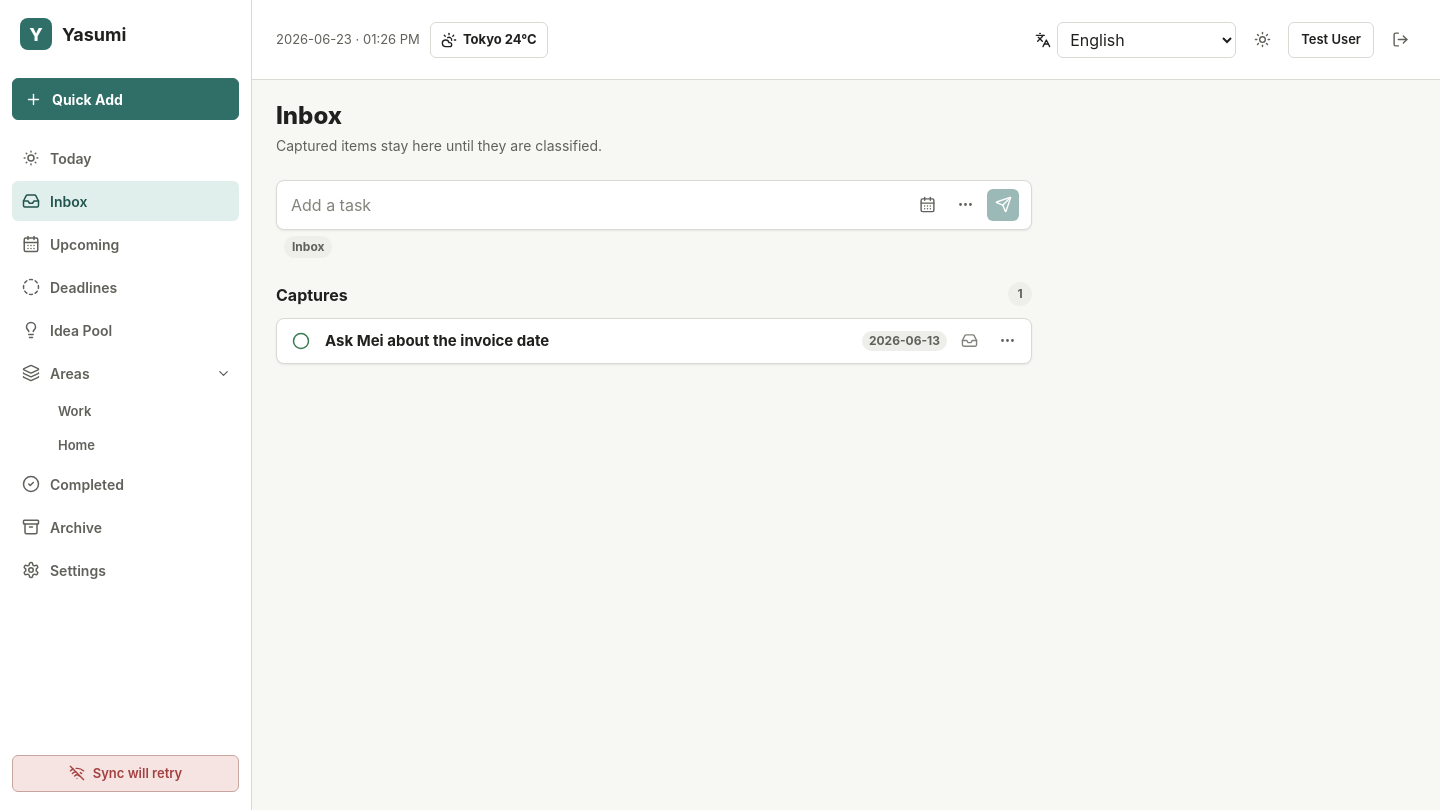
Test: phase 04 pages and action surfaces › allows Quick Add to create a task with Enter
Expected: the heading "Inbox" is shown, [276,101,342,130]
Click the button "Quick Add" at (126, 99), box [12,78,239,120]
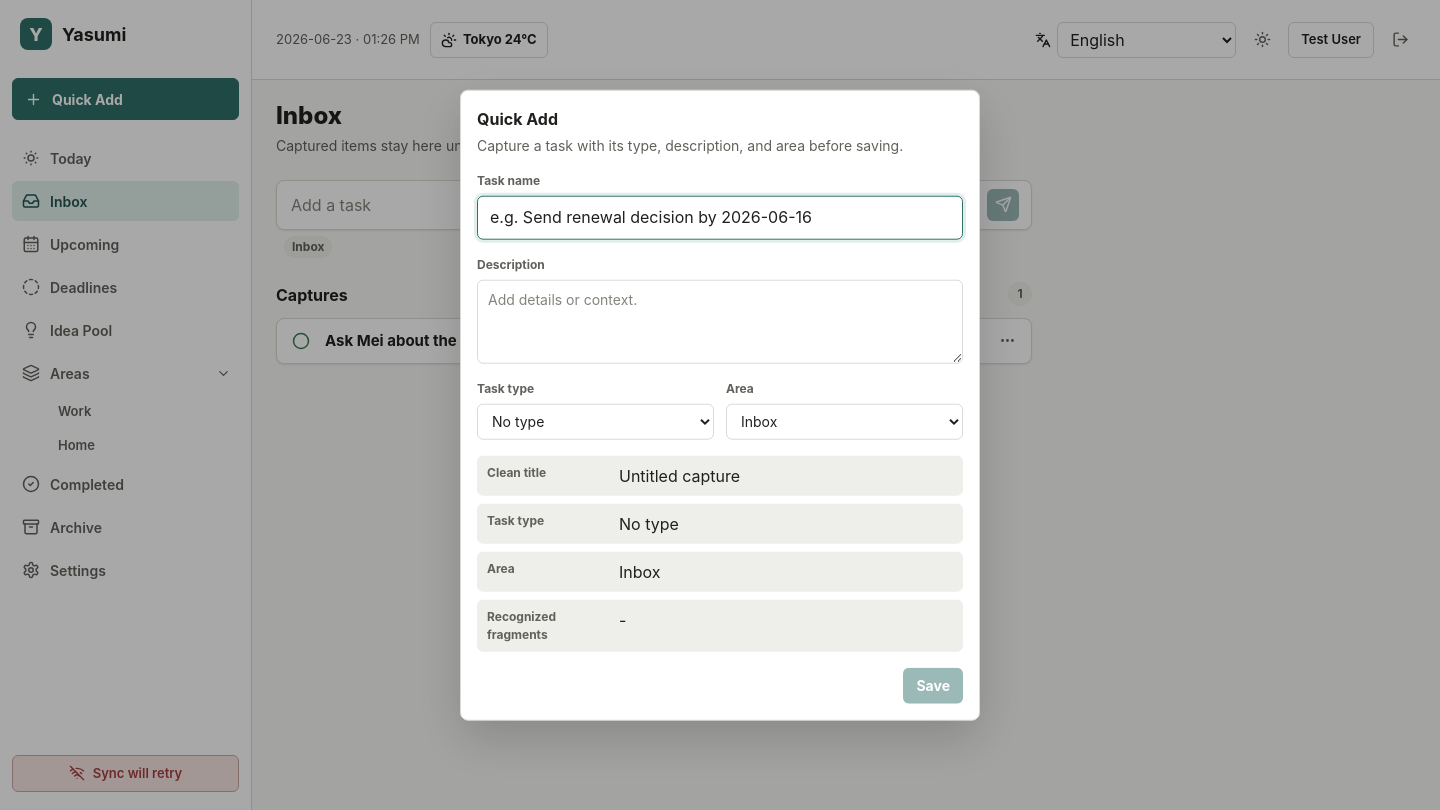
Type "Capture by keyboard" into the field labelled "Task name" at (720, 218), box [477,196,963,239]
Then press Enter
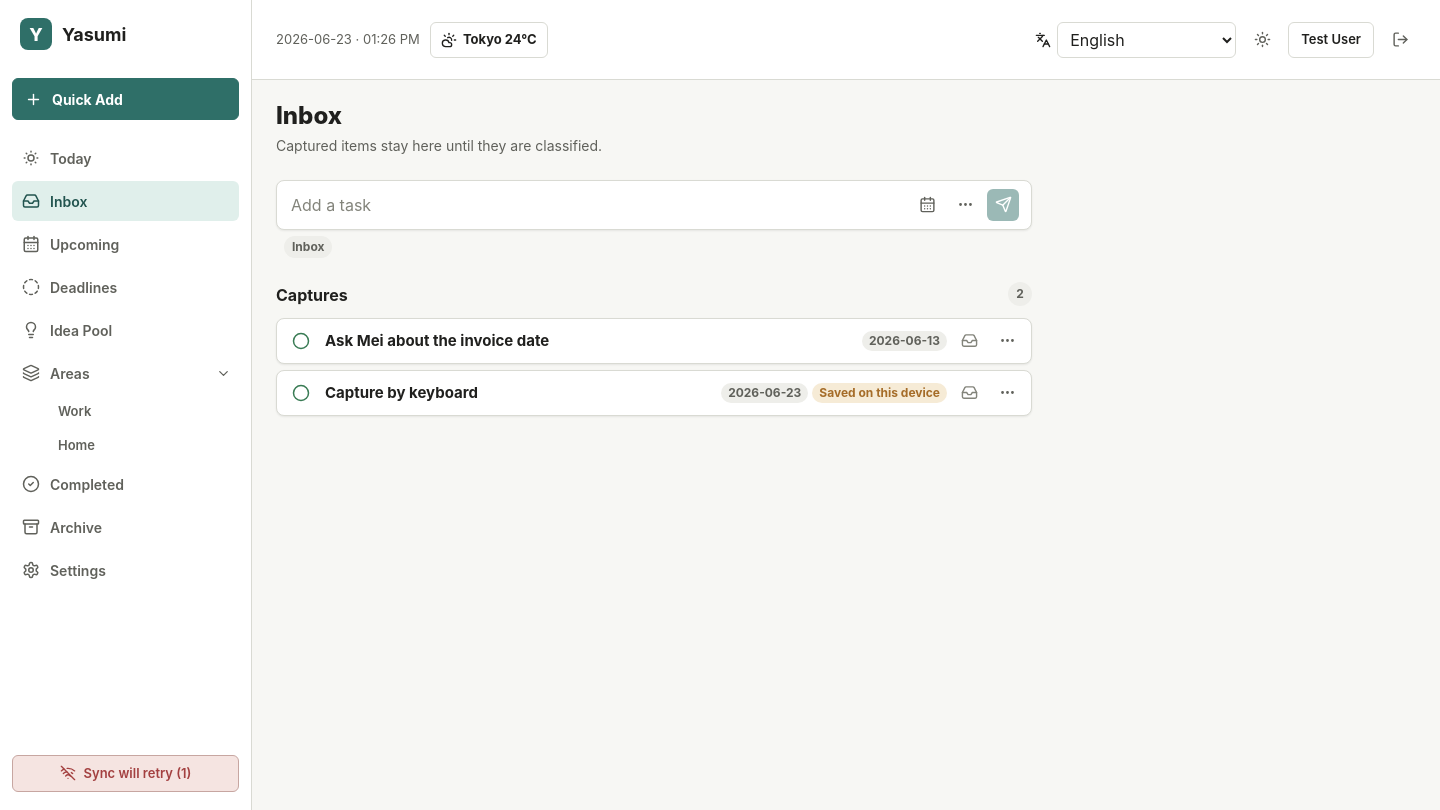
Now the text "Capture by keyboard" is shown, box [325,383,478,403]
